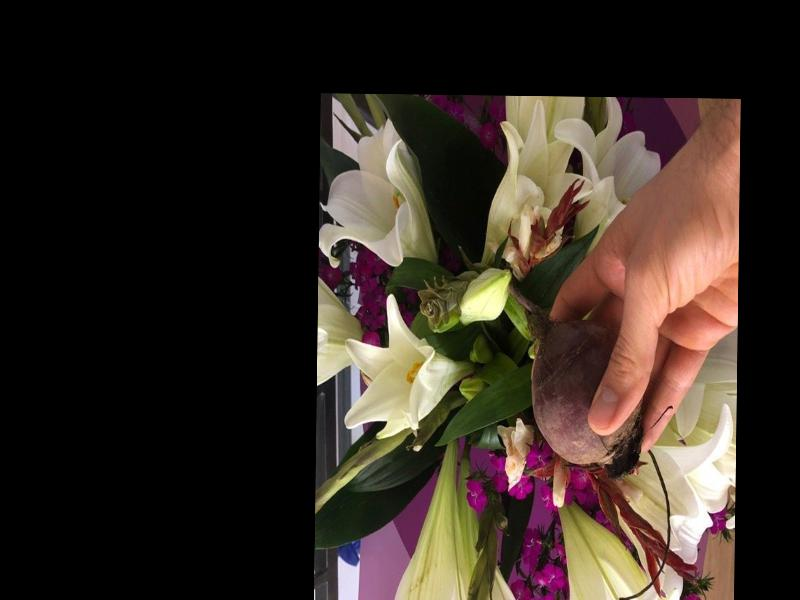Beet: (504, 278, 645, 479)
